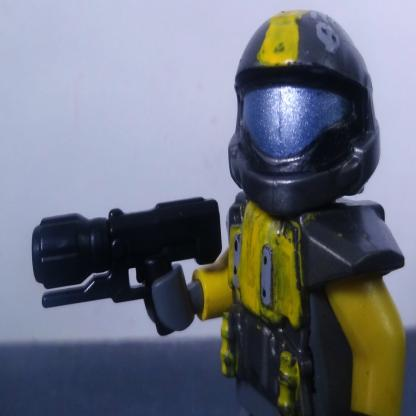Helmet: (228, 10, 381, 222)
